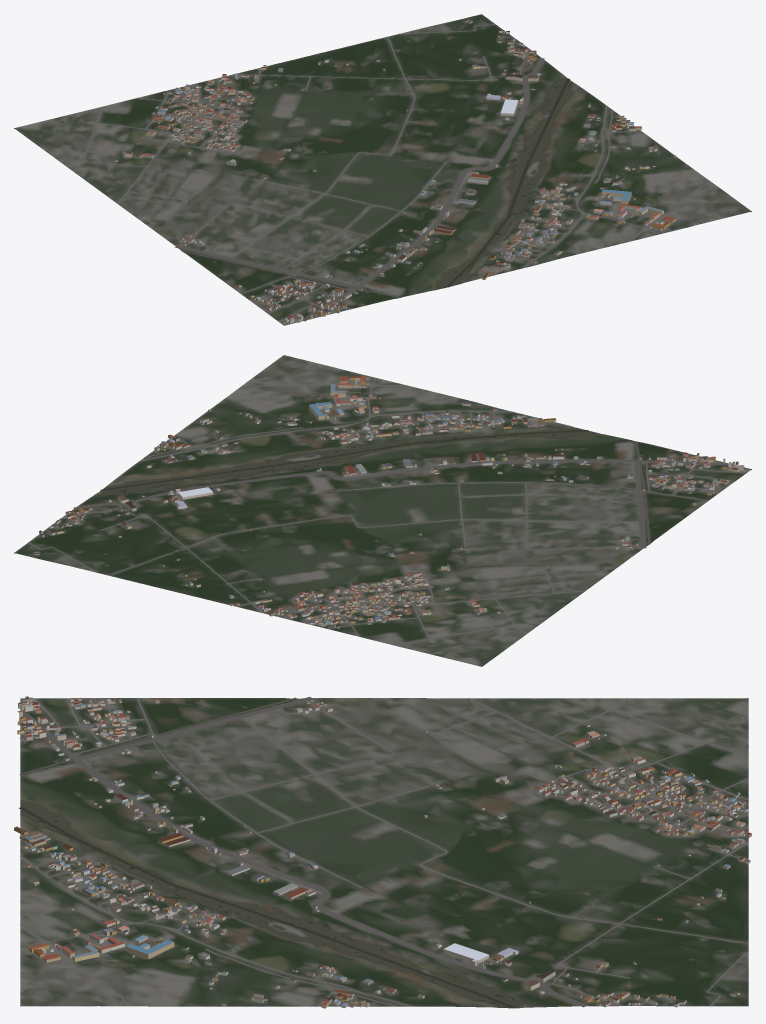
The picture shows the model from 3 angles, top to bottom: view 1: azimuth 30°, elevation 25°; view 2: azimuth 150°, elevation 25°; view 3: azimuth 270°, elevation 25°; orthographic projection. The views are drawn at different scales.
Parts seen in each view (by area): view 1: ground, buildings, roads, water; view 2: ground, buildings, roads, water; view 3: ground, buildings, roads, water.
Part boxes in pixels (x1,y1,x2,y2): ground: (14, 14, 751, 325); buildings: (114, 20, 676, 323); roads: (59, 24, 714, 321); water: (181, 77, 653, 297); ground: (14, 355, 751, 666); buildings: (33, 375, 748, 628); roads: (28, 377, 746, 645); water: (100, 395, 650, 595); ground: (20, 698, 748, 1008); buildings: (14, 696, 751, 1008); roads: (17, 697, 748, 1007); water: (19, 697, 579, 1008).
Size of the model in its own units: 1417 by 17.99 by 1420.
